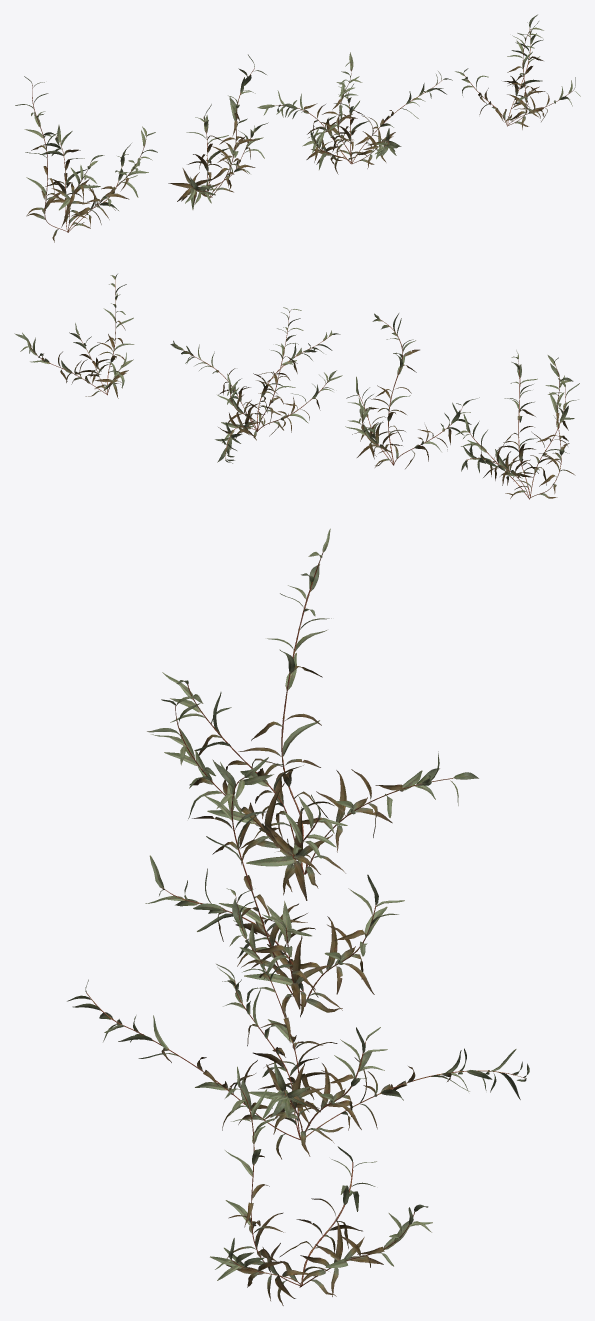
Rendered from shrub_02.gltf.
3 renders of one model, top to bottom at view 1: azimuth 30°, elevation 25°; view 2: azimuth 150°, elevation 25°; view 3: azimuth 270°, elevation 25°, orthographic. The views are drawn at different scales.
Parts seen in each view (by area): view 1: shrub_02_c, shrub_02_a, shrub_02_b, shrub_02_d; view 2: shrub_02_a, shrub_02_c, shrub_02_b, shrub_02_d; view 3: shrub_02_a, shrub_02_c, shrub_02_b, shrub_02_d.
Boxes of the visible parts, box(x1,y1,x2,y2) form: shrub_02_c: box(257, 52, 452, 174); shrub_02_a: box(15, 76, 157, 242); shrub_02_b: box(168, 54, 268, 209); shrub_02_d: box(455, 14, 580, 129); shrub_02_a: box(455, 350, 579, 499); shrub_02_c: box(170, 307, 342, 463); shrub_02_b: box(345, 313, 479, 468); shrub_02_d: box(14, 274, 134, 398); shrub_02_a: box(147, 528, 478, 900); shrub_02_c: box(67, 888, 529, 1159); shrub_02_b: box(145, 757, 404, 1018); shrub_02_d: box(210, 1066, 432, 1305).
Size of the model in its own units: 6.05 by 1.7 by 2.29.
Materials: 1 (1 with a texture image).
